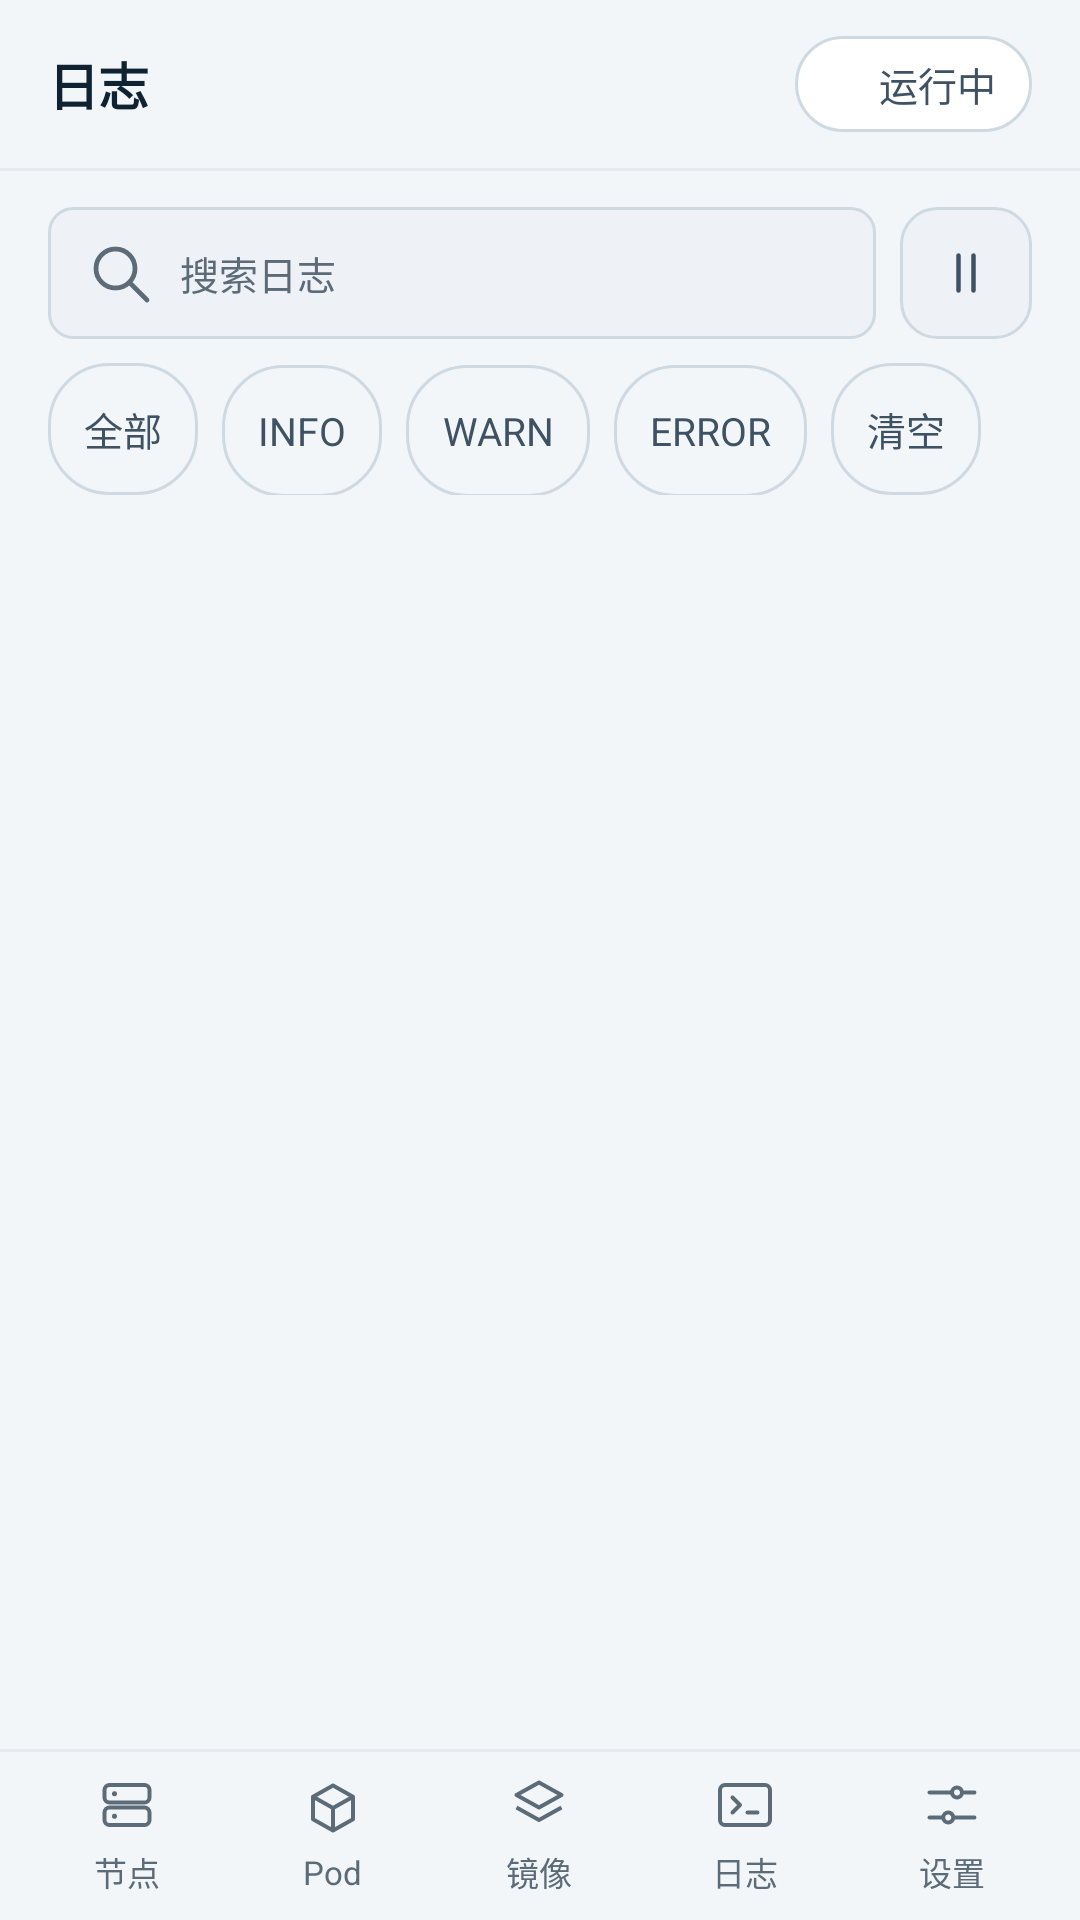

Icons on this 1080*1920 Android screen, each with the point to tap as [x,y]:
暂停: [966,273]
